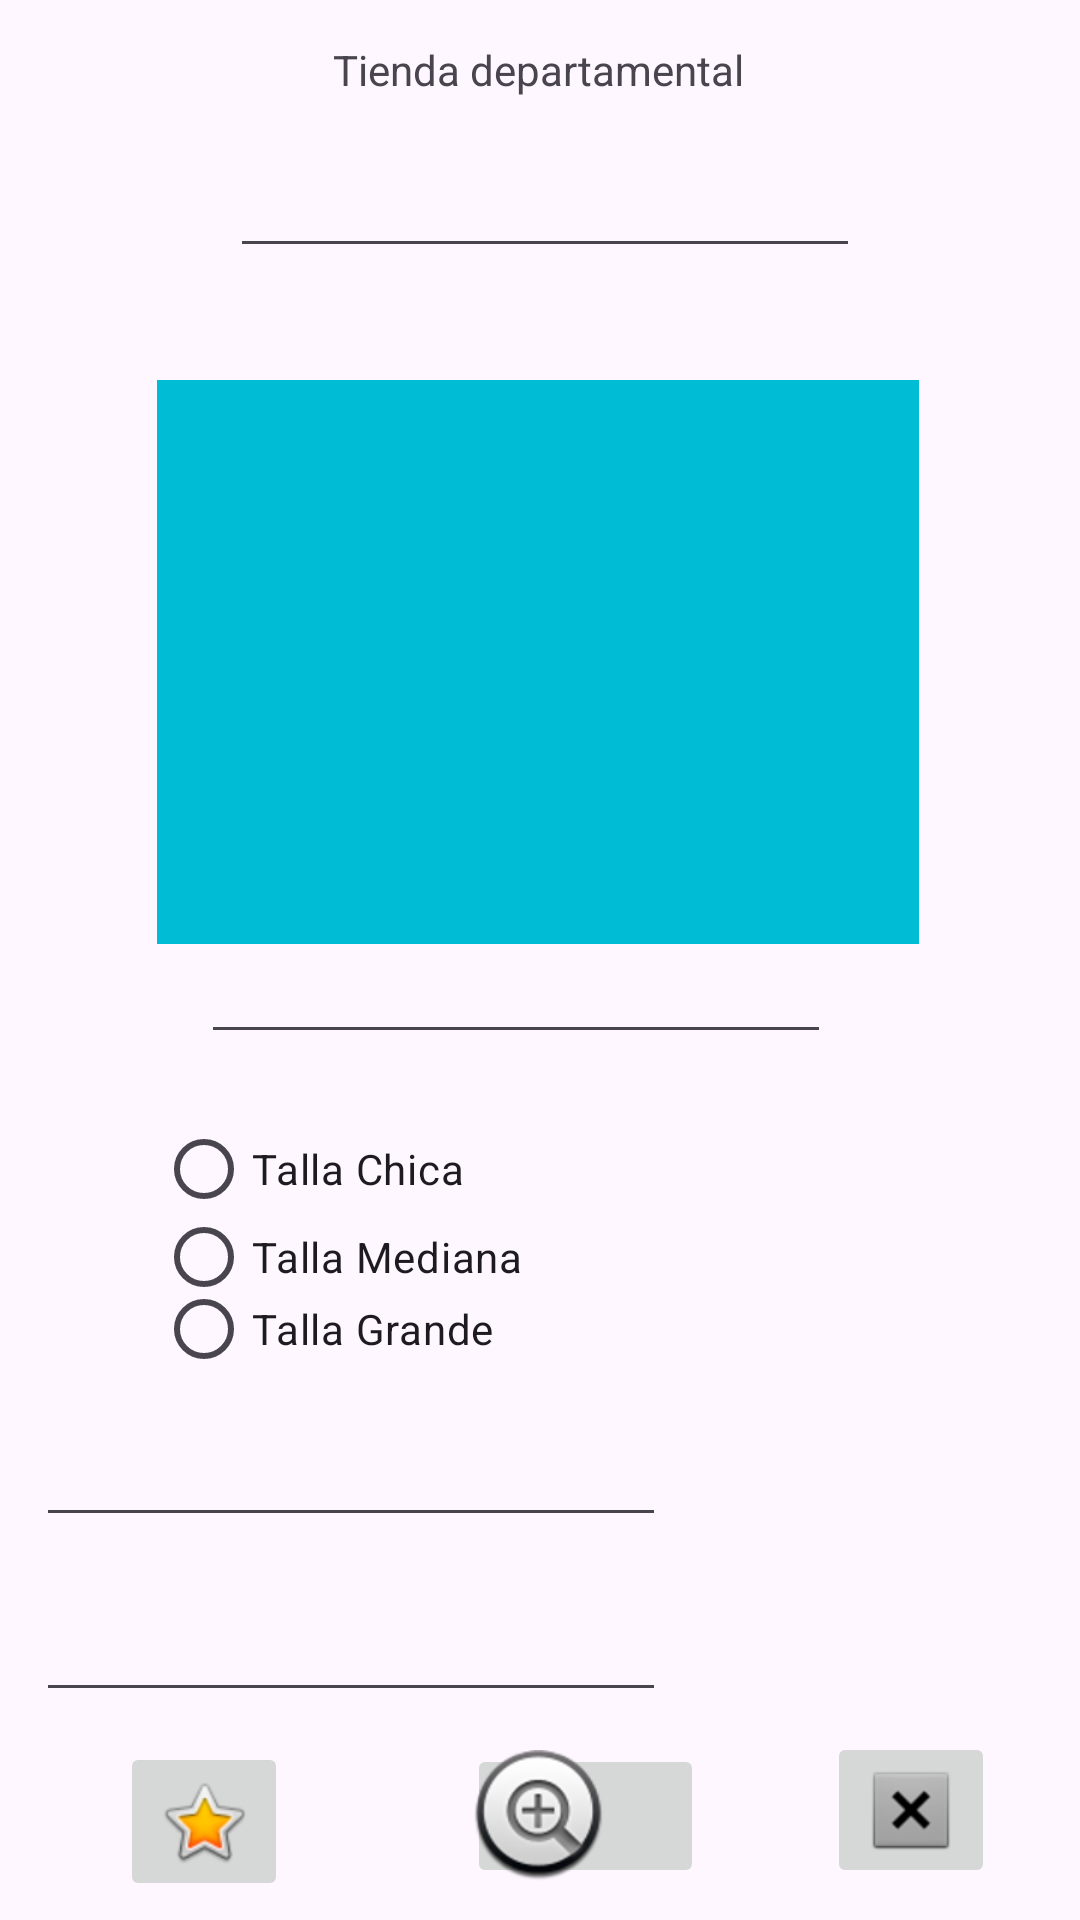

Point at icon controls on the screen. Image size 1080px x 1920px, points as point (x, y).
plus: point (583, 1814)
star on: point (204, 1821)
